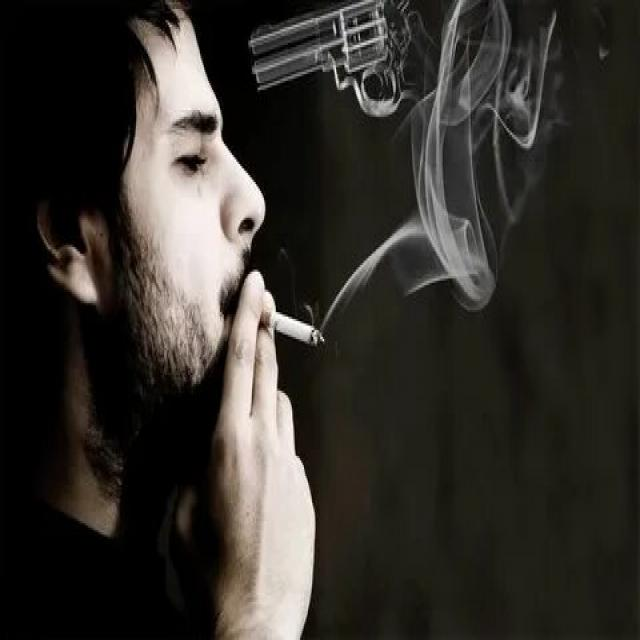smoke: (250, 301, 330, 355)
